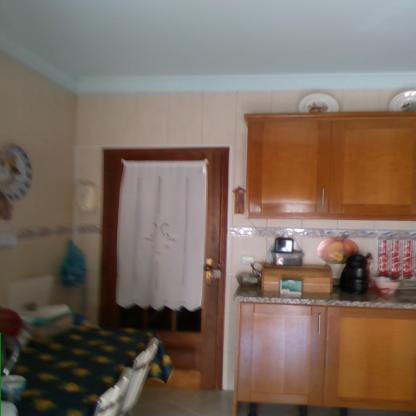closed: (93, 142, 235, 394)
